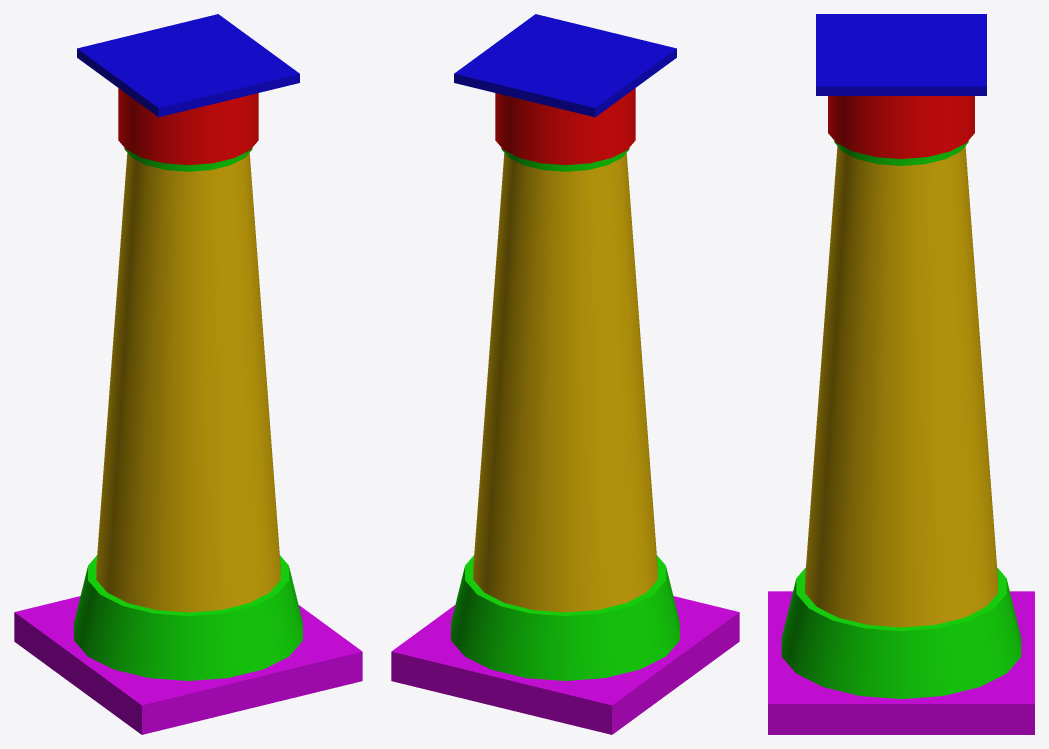
The model's file is colone1.FBX.
3 views of the same model, side by side, from view 1: azimuth 30°, elevation 25°; view 2: azimuth 150°, elevation 25°; view 3: azimuth 270°, elevation 25° (orthographic). The views are drawn at different scales.
Parts seen in each view (by area): view 1: Cylinder001; view 2: Cylinder001; view 3: Cylinder001.
Part boxes in pixels (x1=…): Cylinder001: x1=14, y1=14, x2=362, y2=734; Cylinder001: x1=391, y1=14, x2=739, y2=734; Cylinder001: x1=768, y1=14, x2=1034, y2=734.
Bounding box in the file's own units: 125 × 325 × 125.
